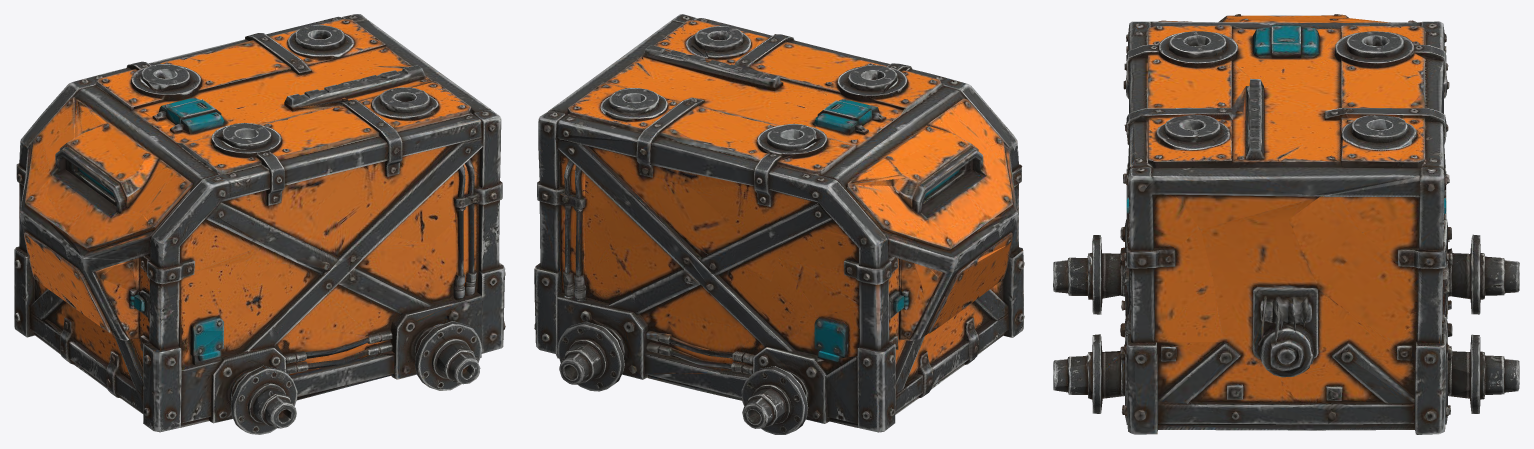
The model's file is bulwark.glb.
The picture shows the model from 3 angles, left to right: view 1: azimuth 30°, elevation 25°; view 2: azimuth 150°, elevation 25°; view 3: azimuth 270°, elevation 25°; orthographic projection. The views are drawn at different scales.
Parts seen in each view (by area): view 1: Mesh_0; view 2: Mesh_0; view 3: Mesh_0.
Boxes of the visible parts, bbox=[...] form: Mesh_0: bbox=[14, 14, 505, 434]; Mesh_0: bbox=[534, 14, 1024, 434]; Mesh_0: bbox=[1053, 14, 1519, 434].
Size of the model in its own units: 1.36 by 0.85 by 1.25.
Materials: 1 (1 with a texture image).
